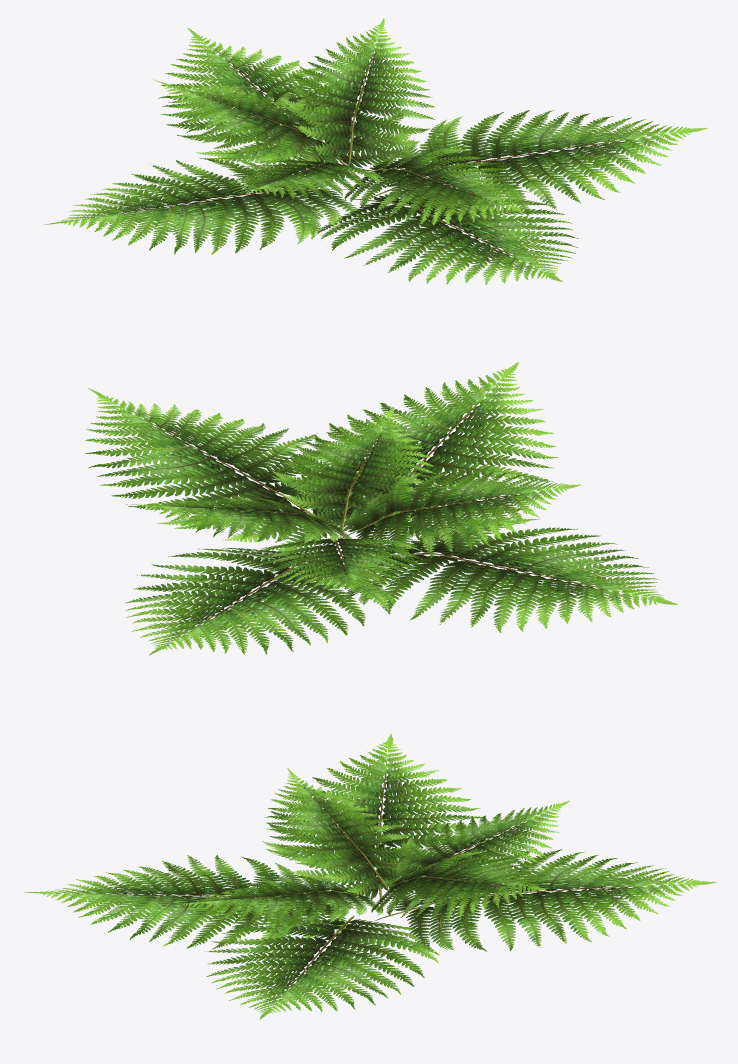
The model's file is ForestFloor_ferns.fbx.
3 views of the same model, one above another, from view 1: azimuth 30°, elevation 25°; view 2: azimuth 150°, elevation 25°; view 3: azimuth 270°, elevation 25° (orthographic). The views are drawn at different scales.
Visible parts, largest first — view 1: Plane; view 2: Plane; view 3: Plane.
Part boxes in pixels (left/top/right/bottom): Plane: left=44, top=18, right=707, bottom=284; Plane: left=85, top=361, right=677, bottom=655; Plane: left=24, top=734, right=716, bottom=1019.
Bounding box in the file's own units: 199 × 28.87 × 200.
